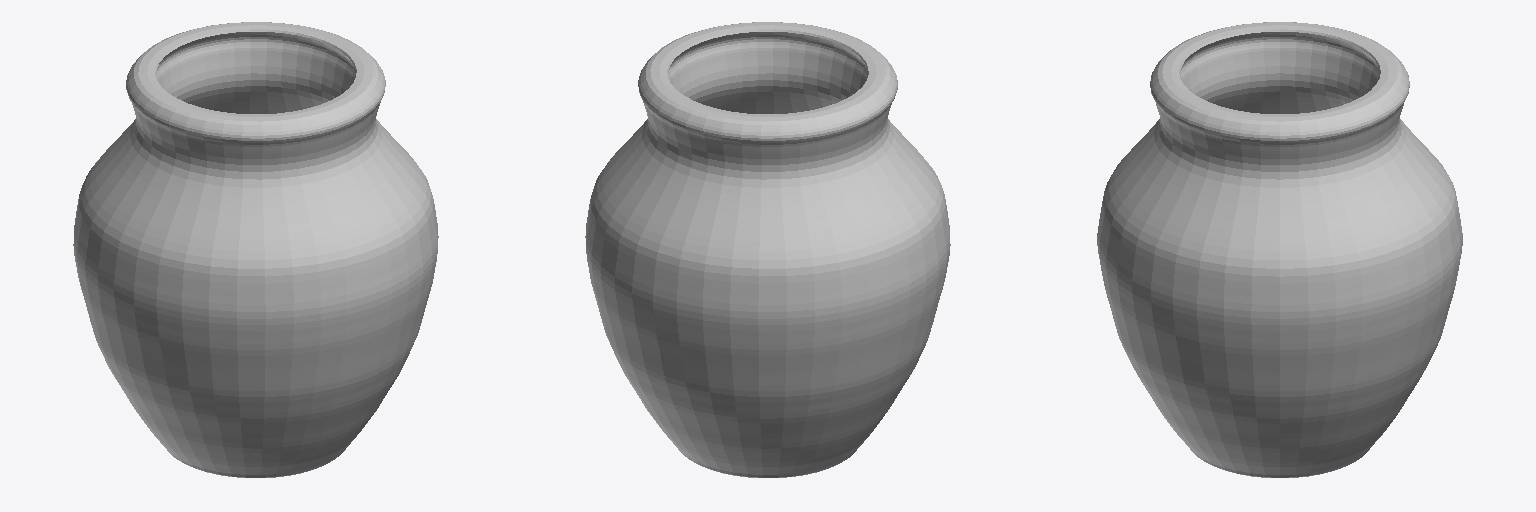
Rendered from vase.obj.
The picture shows the model from 3 angles: view 1: azimuth 30°, elevation 25°; view 2: azimuth 150°, elevation 25°; view 3: azimuth 270°, elevation 25°; orthographic projection.
Parts seen in each view (by area): view 1: vases.001; view 2: vases.001; view 3: vases.001.
Boxes of the visible parts, box(x1,y1,x2,y2) form: vases.001: box(73, 22, 438, 477); vases.001: box(585, 22, 950, 477); vases.001: box(1097, 22, 1462, 477).
Bounding box in the file's own units: 1.54 × 1.72 × 1.54.